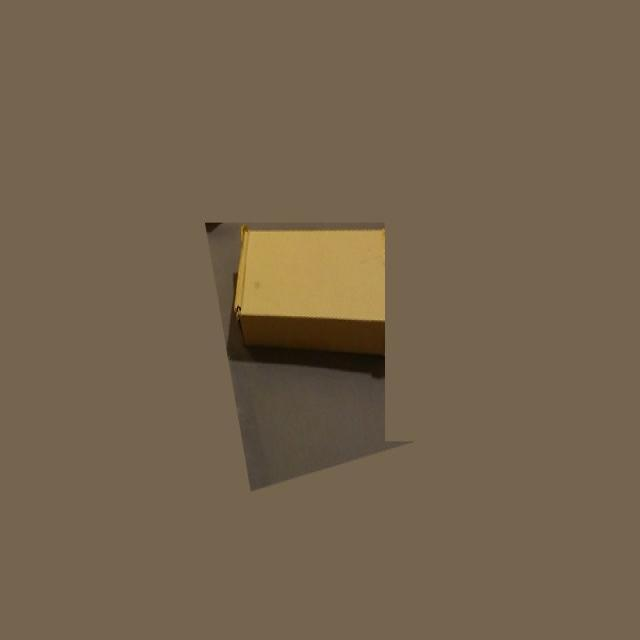Cardboard: (227, 228, 387, 378)
